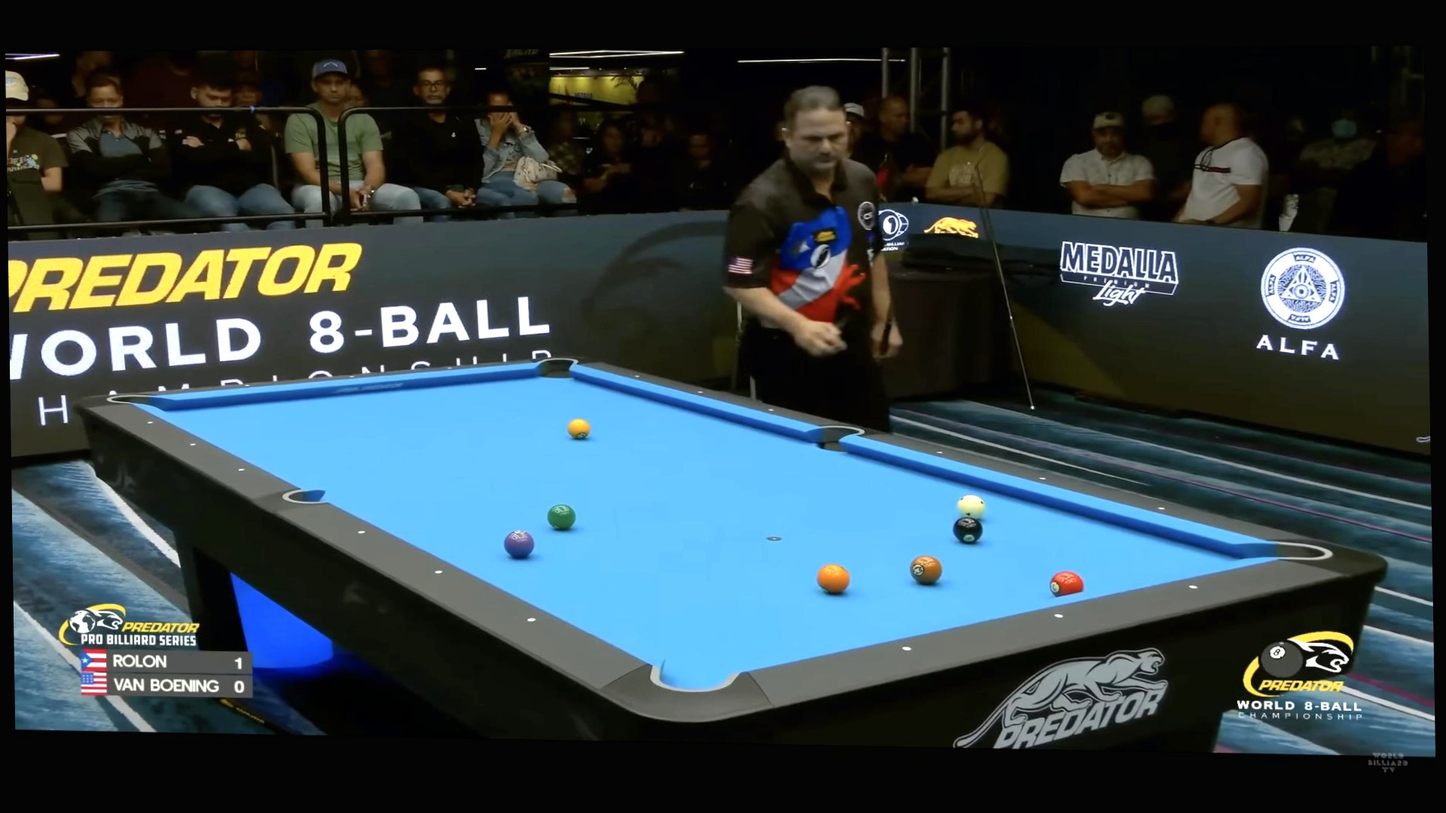Black: (432, 566, 445, 577), (355, 527, 368, 538), (1188, 582, 1200, 592), (525, 615, 537, 625), (901, 643, 912, 653), (1053, 611, 1064, 621), (1155, 503, 1167, 512), (347, 373, 355, 380), (446, 364, 454, 371), (1039, 475, 1046, 482), (936, 449, 943, 456), (244, 382, 251, 389), (147, 420, 154, 426), (634, 373, 640, 379), (239, 467, 245, 473), (190, 442, 196, 448), (768, 408, 774, 413), (697, 390, 703, 395)
Cue: (816, 563, 850, 595), (909, 555, 942, 585), (503, 529, 535, 559), (1049, 571, 1084, 598), (547, 503, 576, 531), (567, 418, 590, 440)
Solid: (952, 516, 983, 543)
Stripe: (957, 494, 986, 519)
